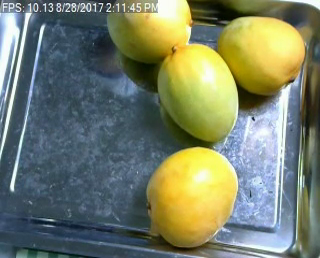Mango: (147, 147, 239, 245), (157, 44, 239, 139), (218, 16, 303, 99), (106, 0, 192, 61)
